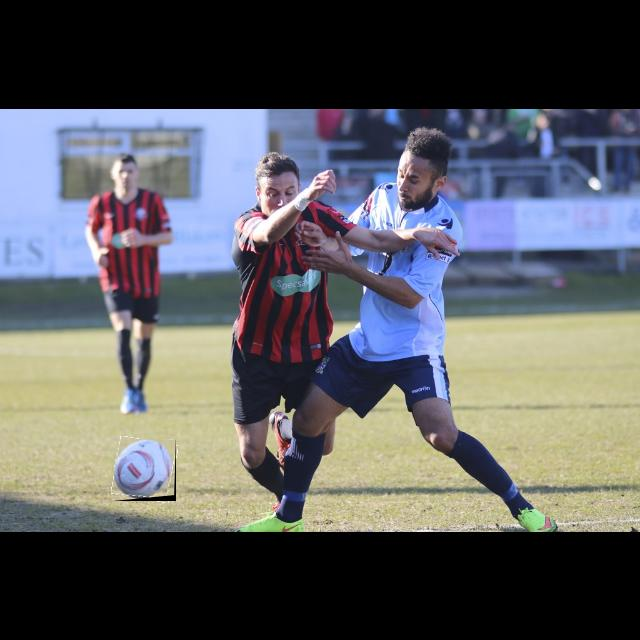Football: (114, 439, 176, 501)
